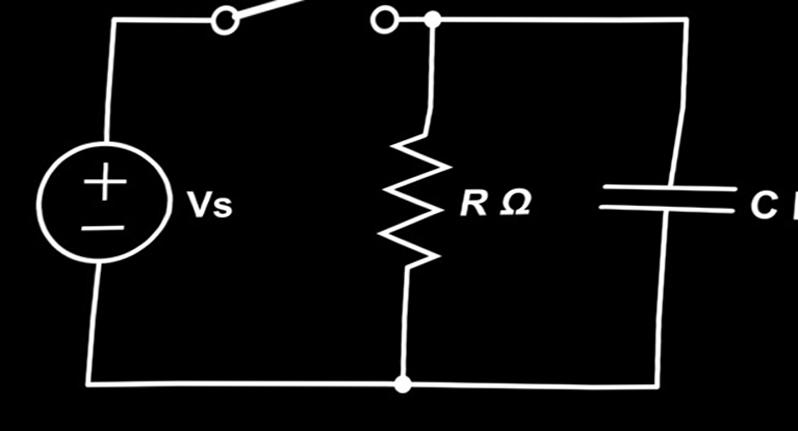Battery: (15, 127, 182, 286)
